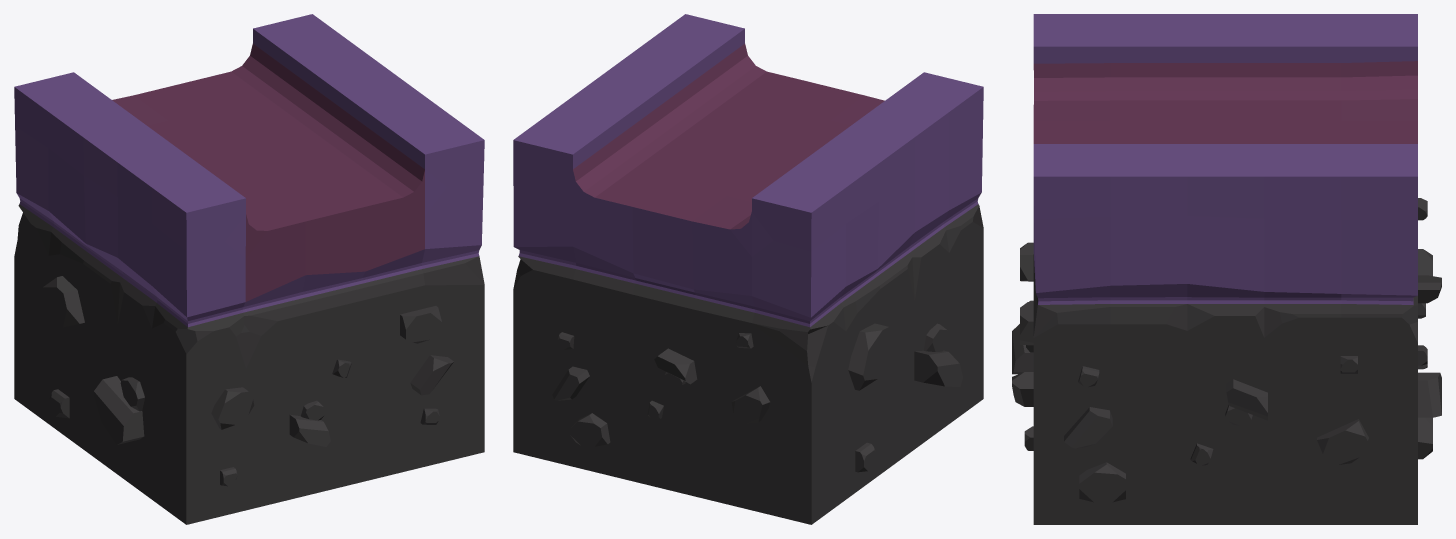
The model's file is TileRoadTest2.fbx.
The picture shows the model from 3 angles, left to right: view 1: azimuth 30°, elevation 25°; view 2: azimuth 150°, elevation 25°; view 3: azimuth 270°, elevation 25°; orthographic projection. The views are drawn at different scales.
Parts seen in each view (by area): view 1: Grass.001; view 2: Grass.001; view 3: Grass.001.
Part boxes in pixels (left/top/right/bottom): Grass.001: left=14, top=14, right=484, bottom=524; Grass.001: left=513, top=14, right=983, bottom=524; Grass.001: left=1012, top=14, right=1441, bottom=524.
Bounding box in the file's own units: 227 × 200 × 224.
